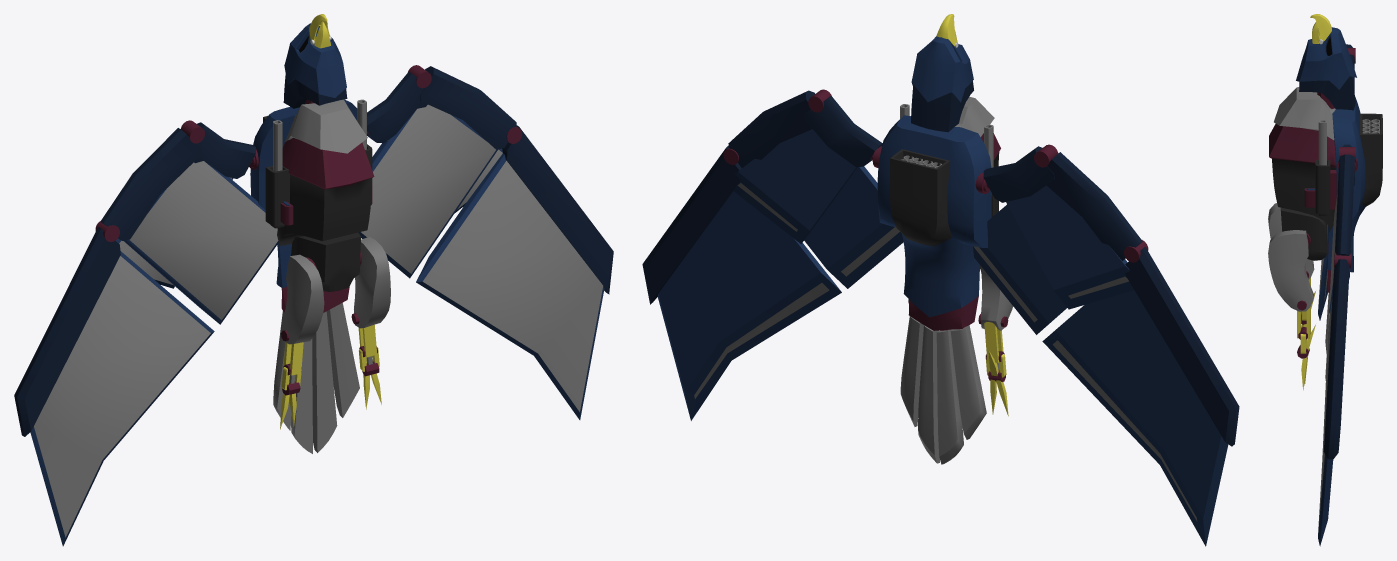
File: squallParticle.fbx
The picture shows the model from 3 angles, left to right: view 1: azimuth 30°, elevation 25°; view 2: azimuth 150°, elevation 25°; view 3: azimuth 270°, elevation 25°; orthographic projection. The views are drawn at different scales.
Visible parts, largest first — view 1: Bird.001; view 2: Bird.001; view 3: Bird.001.
Part boxes in pixels (x1,y1,x2,y2): Bird.001: [14, 14, 613, 546]; Bird.001: [642, 14, 1239, 546]; Bird.001: [1268, 14, 1382, 546].
Bounding box in the file's own units: 0.993 × 0.1852 × 0.7474.
